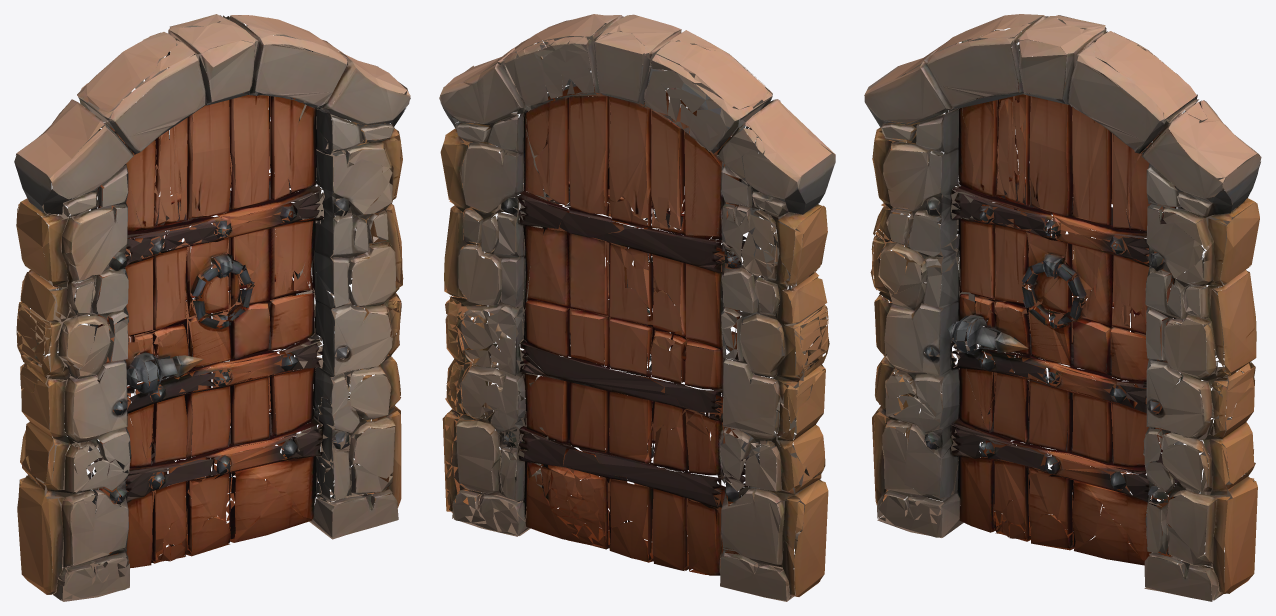
The model's file is door-heavy.glb.
3 renders of one model, left to right at view 1: azimuth 30°, elevation 25°; view 2: azimuth 150°, elevation 25°; view 3: azimuth 330°, elevation 25°, orthographic.
Visible parts, largest first — view 1: material; view 2: material; view 3: material.
Boxes of the visible parts, box(x1,y1,x2,y2) form: material: box(14, 14, 410, 601); material: box(439, 14, 835, 601); material: box(864, 14, 1261, 601).
Size of the model in its own units: 0.6694 by 0.9199 by 0.1374.
Materials: 1 (1 with a texture image).
